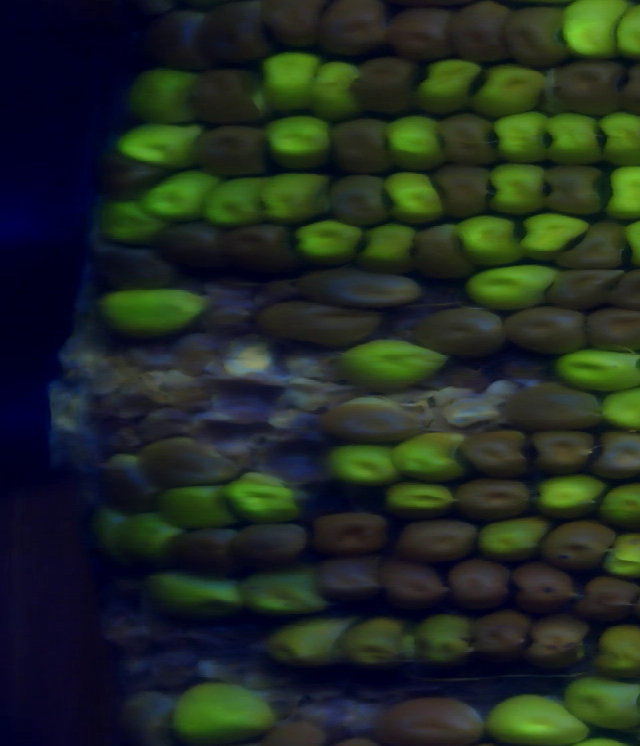fluorescent: (93, 283, 206, 344), (167, 683, 280, 743), (139, 566, 249, 624), (445, 210, 532, 275), (339, 335, 452, 384), (483, 693, 588, 744), (235, 569, 338, 617), (463, 262, 562, 311), (125, 66, 205, 126), (260, 112, 337, 174), (472, 55, 543, 120), (560, 674, 640, 730), (257, 48, 324, 113), (539, 100, 603, 168), (116, 121, 204, 170), (151, 481, 240, 528), (286, 218, 368, 268), (556, 345, 640, 393), (416, 58, 484, 117), (264, 621, 349, 668), (559, 1, 628, 58), (258, 170, 331, 223), (322, 440, 404, 487), (381, 107, 446, 166), (223, 473, 295, 526), (479, 517, 553, 568), (390, 431, 467, 480), (92, 197, 172, 244), (342, 615, 403, 676), (119, 505, 180, 565), (514, 209, 584, 261), (144, 170, 212, 223), (308, 53, 365, 115), (485, 160, 548, 216), (198, 173, 265, 225), (350, 227, 420, 276), (413, 609, 471, 666), (536, 469, 604, 517), (384, 174, 446, 224), (90, 501, 136, 567), (487, 112, 547, 161), (389, 475, 457, 518), (591, 620, 640, 677), (597, 110, 640, 167), (593, 483, 640, 528), (604, 161, 640, 219), (597, 386, 640, 428), (608, 529, 640, 585)
nonfluorescent: (254, 294, 385, 349), (411, 300, 524, 359), (294, 262, 425, 307), (128, 436, 241, 488), (317, 396, 433, 446), (410, 214, 486, 290), (498, 385, 607, 437), (367, 695, 489, 741), (502, 1, 574, 75), (500, 301, 597, 355), (382, 1, 460, 67), (89, 232, 179, 289), (314, 1, 393, 62), (82, 143, 165, 201), (509, 557, 588, 617), (138, 10, 213, 73), (540, 516, 619, 575), (181, 67, 263, 123), (200, 1, 272, 64), (216, 222, 304, 273), (394, 516, 484, 565), (541, 161, 614, 220), (446, 1, 510, 68), (320, 117, 393, 175), (555, 220, 636, 272), (308, 555, 389, 607), (544, 266, 631, 314), (198, 120, 271, 177), (105, 451, 171, 514), (527, 424, 604, 477), (440, 559, 515, 612), (525, 610, 590, 671), (428, 164, 500, 219), (155, 220, 232, 271), (456, 427, 535, 476), (351, 56, 420, 112), (374, 560, 445, 614), (451, 476, 534, 522), (556, 58, 622, 115), (328, 174, 392, 230), (262, 1, 323, 58), (470, 609, 532, 665), (576, 573, 640, 627), (440, 111, 500, 168), (308, 512, 390, 552), (233, 523, 315, 563), (173, 529, 250, 570), (594, 421, 640, 481), (587, 306, 640, 352), (259, 721, 350, 746)
